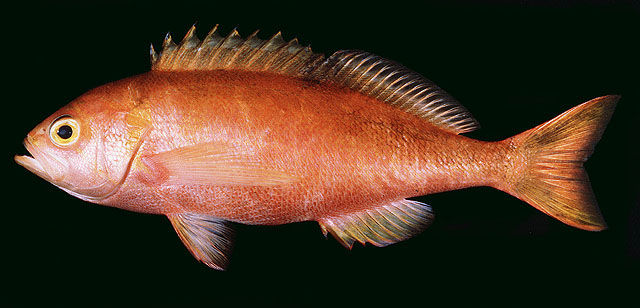fish: (15, 25, 620, 272)
